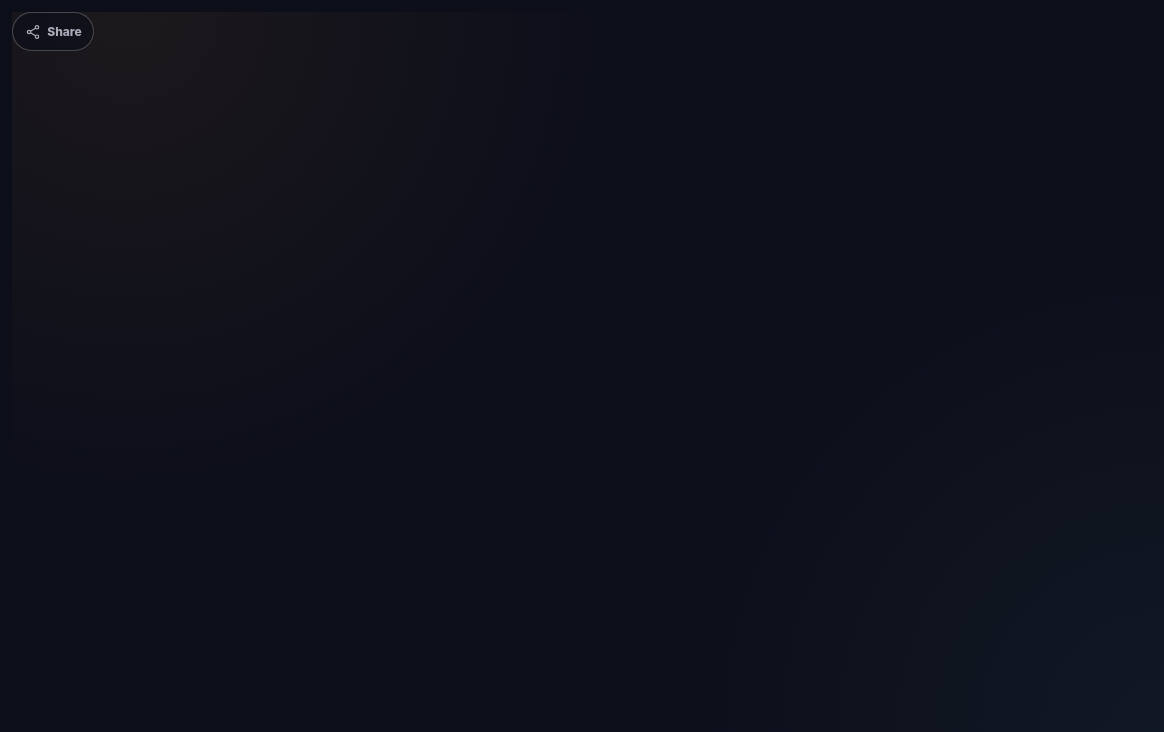
it: ShareIdeaAction › reports a clipboard fallback failure without breaking the page
Click the button "Share": (53, 32) [12,12,94,51]
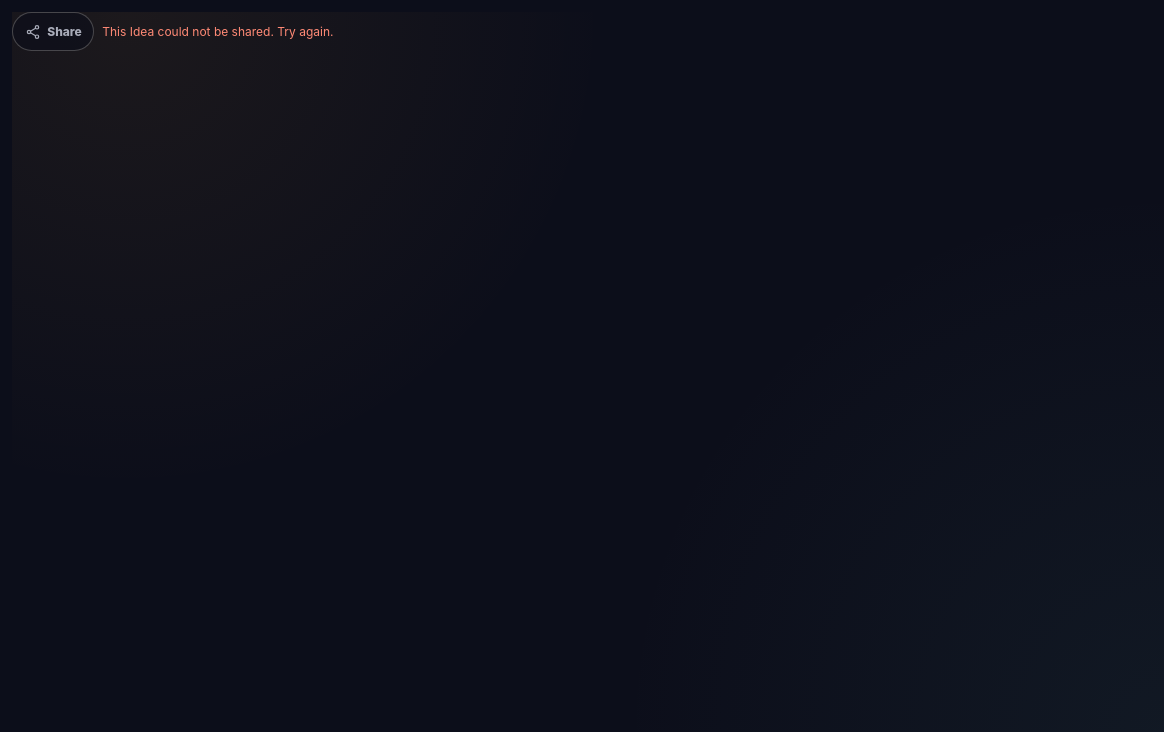
Result: the message reads "This Idea could not be shared. Try again." at [102,24,334,39]
